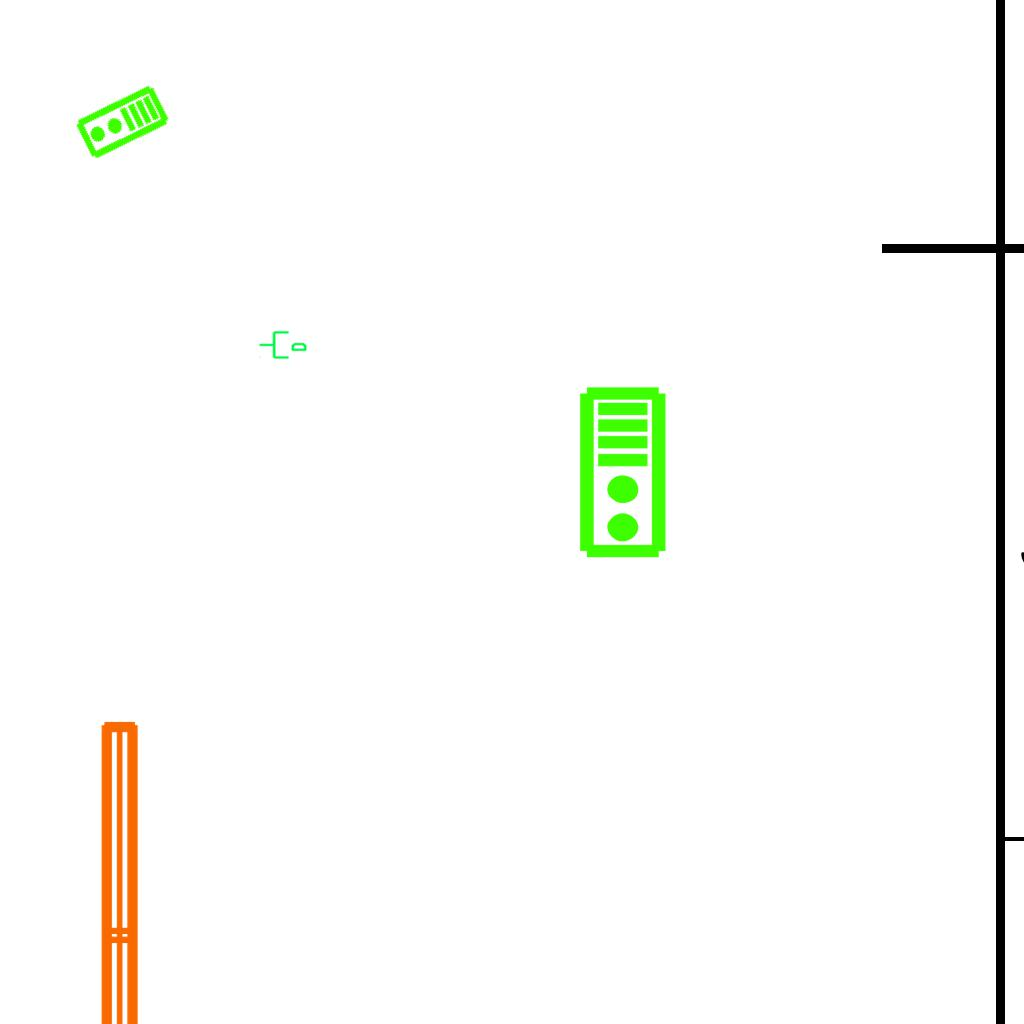Ambulanz_Pendelleuchte_LED: (89, 711, 201, 1024)
Datenanschluss_einfach: (258, 327, 308, 361)
Gegensprechanlage_mit_Video: (577, 385, 672, 561), (72, 82, 173, 164)
